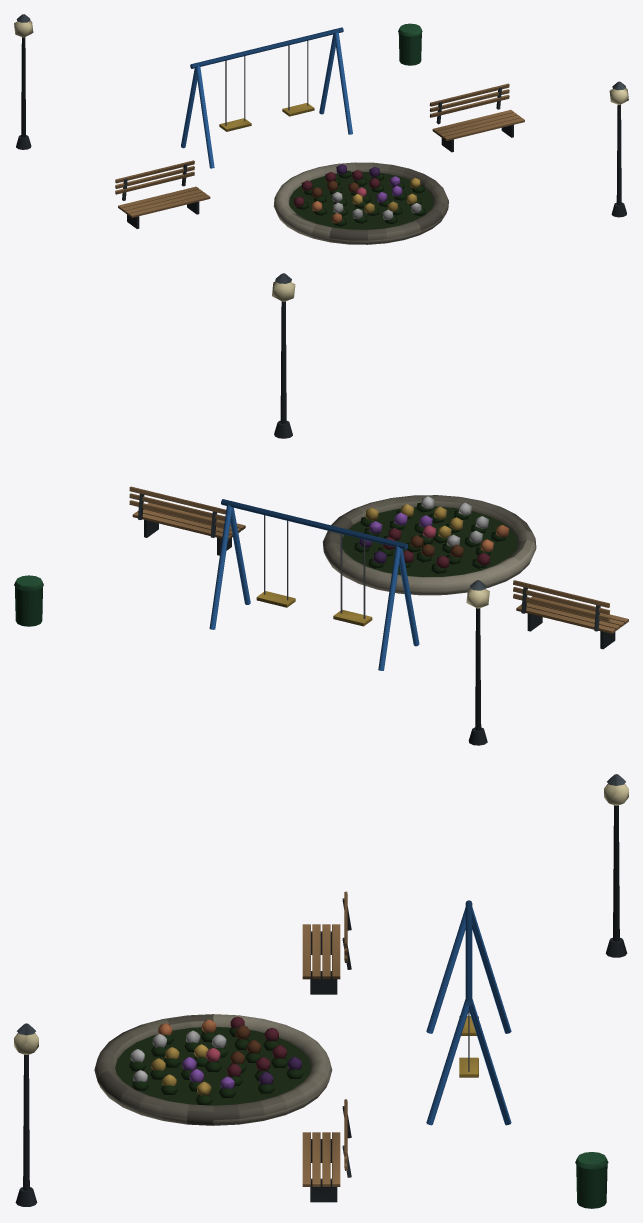
Rendered from park.glb.
3 renders of one model, top to bottom at view 1: azimuth 30°, elevation 25°; view 2: azimuth 150°, elevation 25°; view 3: azimuth 270°, elevation 25°, orthographic. The views are drawn at different scales.
Parts seen in each view (by area): view 1: park; view 2: park; view 3: park.
Part boxes in pixels (x1,y1,x2,y2): park: [14, 14, 628, 244]; park: [14, 273, 628, 745]; park: [14, 774, 628, 1208].
Bounding box in the file's own units: 12.61 × 4.04 × 12.51.
